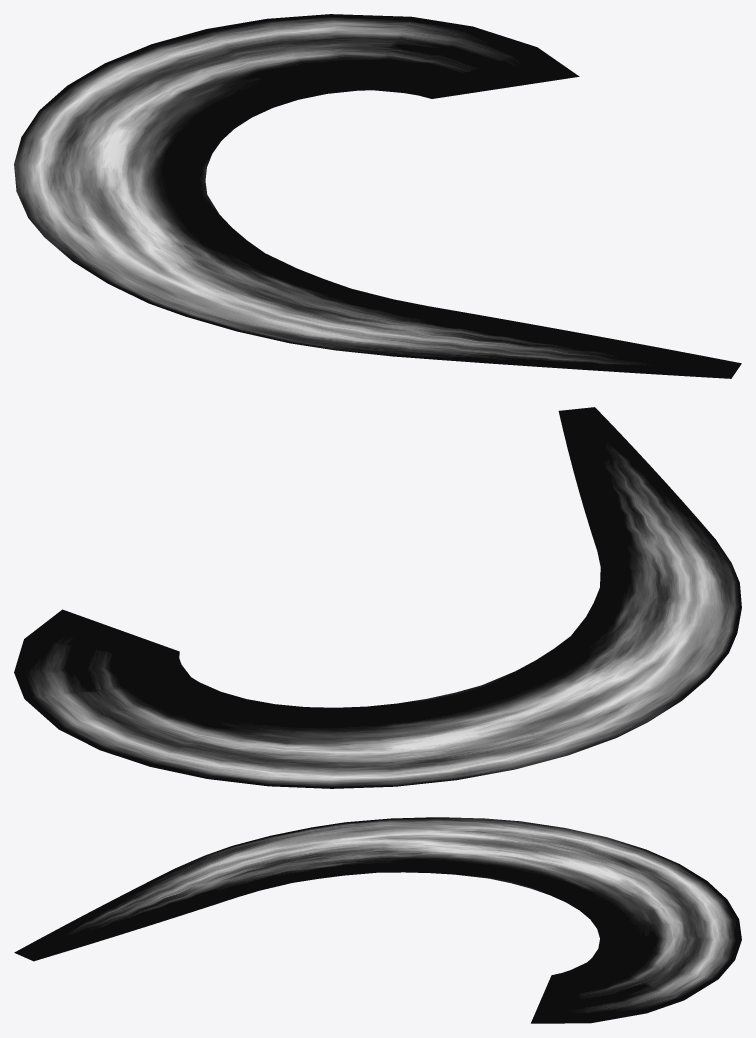
The model's file is helx6.FBX.
3 renders of one model, top to bottom at view 1: azimuth 30°, elevation 25°; view 2: azimuth 150°, elevation 25°; view 3: azimuth 270°, elevation 25°, orthographic. The views are drawn at different scales.
Visible parts, largest first — view 1: Plane004; view 2: Plane004; view 3: Plane004.
Boxes of the visible parts, x1=… form: Plane004: x1=14, y1=14, x2=741, y2=378; Plane004: x1=14, y1=407, x2=741, y2=788; Plane004: x1=14, y1=817, x2=741, y2=1023.
Bounding box in the file's own units: 967 × 0.0026 × 1440.
1 material, 1 textured.
